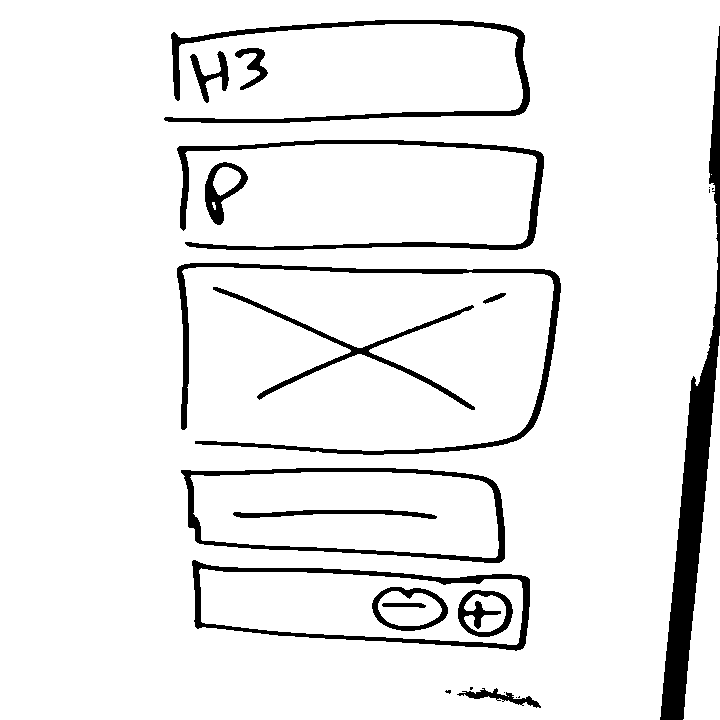button: (175, 465, 512, 568)
heading3: (163, 19, 535, 129)
inline stepper bar: (188, 558, 538, 656)
paragraph: (173, 134, 548, 258)
picture: (172, 258, 563, 460)
